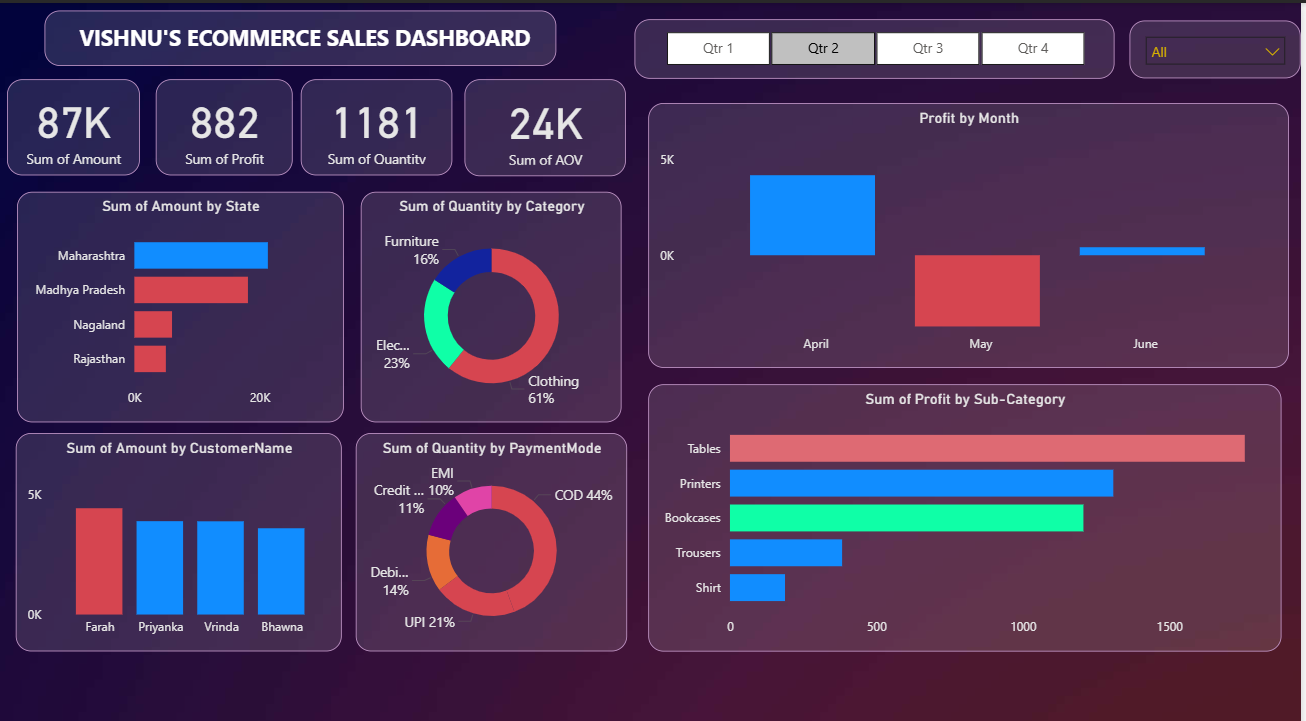

The page's visual inventory and layout, read from the dashboard file:
{"tool":"powerbi","page":{"name":"Page 1","canvas":[1280,720],"ordinal":0},"visuals":[{"type":"textbox","box":[46.9,7.1,502,54.1],"z":0},{"type":"columnChart","title":"Profit by Month","fields":{"Category":["Orders.Order Date.Variation.Date Hierarchy.Month"],"Y":["Sum(Details.Profit)"]},"box":[639.8,98,628.6,260.2],"z":1000},{"type":"barChart","fields":{"Category":["Details.Sub-Category"],"Y":["Sum(Details.Profit)"]},"box":[639.8,374.5,621.4,262.2],"z":2000},{"type":"donutChart","fields":{"Category":["Details.Category"],"Y":["Sum(Details.Quantity)"]},"box":[357.1,184.7,256.1,226.5],"z":3000},{"type":"donutChart","fields":{"Category":["Details.PaymentMode"],"Y":["Sum(Details.Quantity)"]},"box":[352,422.4,266.3,214.3],"z":4000},{"type":"card","fields":{"Values":["Sum(Details.Amount)"]},"box":[10,74.3,130.6,94.4],"z":5000},{"type":"card","fields":{"Values":["Sum(Details.Quantity)"]},"box":[298.4,74.3,148.7,94.4],"z":6000},{"type":"card","fields":{"Values":["Sum(Details.Profit)"]},"box":[155.7,74.3,134.6,94.4],"z":7000},{"type":"card","fields":{"Values":["Sum(Details.AOV)"]},"box":[459.2,74.3,158.7,95.4],"z":8000},{"type":"barChart","fields":{"Category":["Orders.State"],"Y":["Sum(Details.Amount)"]},"box":[19.4,184.7,320.4,226.5],"z":9000},{"type":"columnChart","fields":{"Category":["Orders.CustomerName"],"Y":["Sum(Details.Amount)"]},"box":[19,422,320,214],"z":10000},{"type":"slicer","fields":{"Values":["Orders.Order Date.Variation.Date Hierarchy.Quarter"]},"box":[625.5,16.3,471.4,58.2],"z":11000},{"type":"slicer","fields":{"Values":["Orders.State"]},"box":[1111.2,17.3,168.4,57.1],"z":12000}]}

Visuals, with their boxes in screenshot pixels (x1, y1, x2, y2), scaled from the page's 1280x720 canvas onto the 1306x721 screenshot:
textbox: {"x1": 48, "y1": 7, "x2": 560, "y2": 61}
"Profit by Month" columnChart: {"x1": 653, "y1": 98, "x2": 1294, "y2": 359}
barChart - Details.Sub-Category x Sum(Details.Profit): {"x1": 653, "y1": 375, "x2": 1287, "y2": 638}
donutChart - Details.Category x Sum(Details.Quantity): {"x1": 364, "y1": 185, "x2": 626, "y2": 412}
donutChart - Details.PaymentMode x Sum(Details.Quantity): {"x1": 359, "y1": 423, "x2": 631, "y2": 638}
card - Sum(Details.Amount): {"x1": 10, "y1": 74, "x2": 143, "y2": 169}
card - Sum(Details.Quantity): {"x1": 304, "y1": 74, "x2": 456, "y2": 169}
card - Sum(Details.Profit): {"x1": 159, "y1": 74, "x2": 296, "y2": 169}
card - Sum(Details.AOV): {"x1": 469, "y1": 74, "x2": 630, "y2": 170}
barChart - Orders.State x Sum(Details.Amount): {"x1": 20, "y1": 185, "x2": 347, "y2": 412}
columnChart - Orders.CustomerName x Sum(Details.Amount): {"x1": 19, "y1": 423, "x2": 346, "y2": 637}
slicer - Orders.Order Date.Variation.Date Hierarchy.Quarter: {"x1": 638, "y1": 16, "x2": 1119, "y2": 75}
slicer - Orders.State: {"x1": 1134, "y1": 17, "x2": 1305, "y2": 75}
